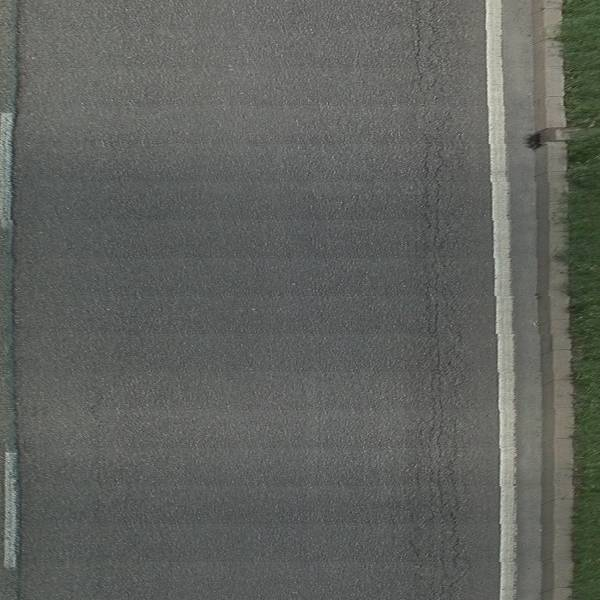road_damage: (414, 138, 462, 561), (6, 55, 25, 433)
